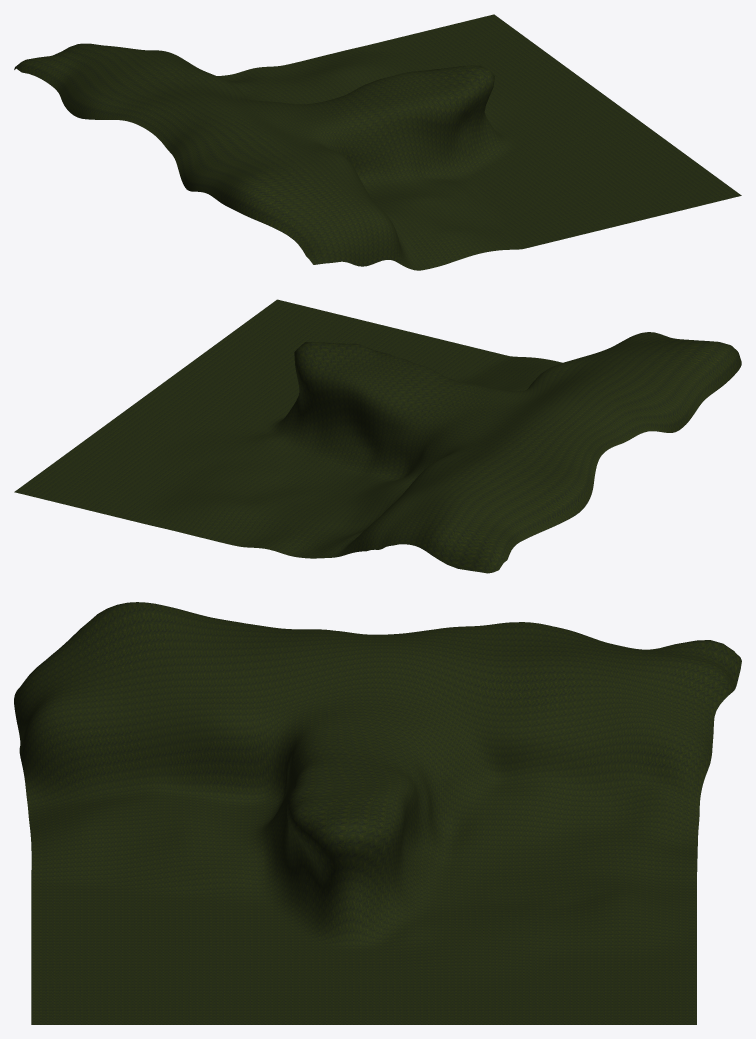
File: cliff.gltf
The picture shows the model from 3 angles, top to bottom: view 1: azimuth 30°, elevation 25°; view 2: azimuth 150°, elevation 25°; view 3: azimuth 270°, elevation 25°; orthographic projection. The views are drawn at different scales.
Parts seen in each view (by area): view 1: Grid-col; view 2: Grid-col; view 3: Grid-col.
Boxes of the visible parts, x1,y1,x2,y2 form: Grid-col: (14, 14, 741, 270); Grid-col: (14, 299, 741, 573); Grid-col: (14, 602, 741, 1024).
Bounding box in the file's own units: 555 × 104 × 547.
